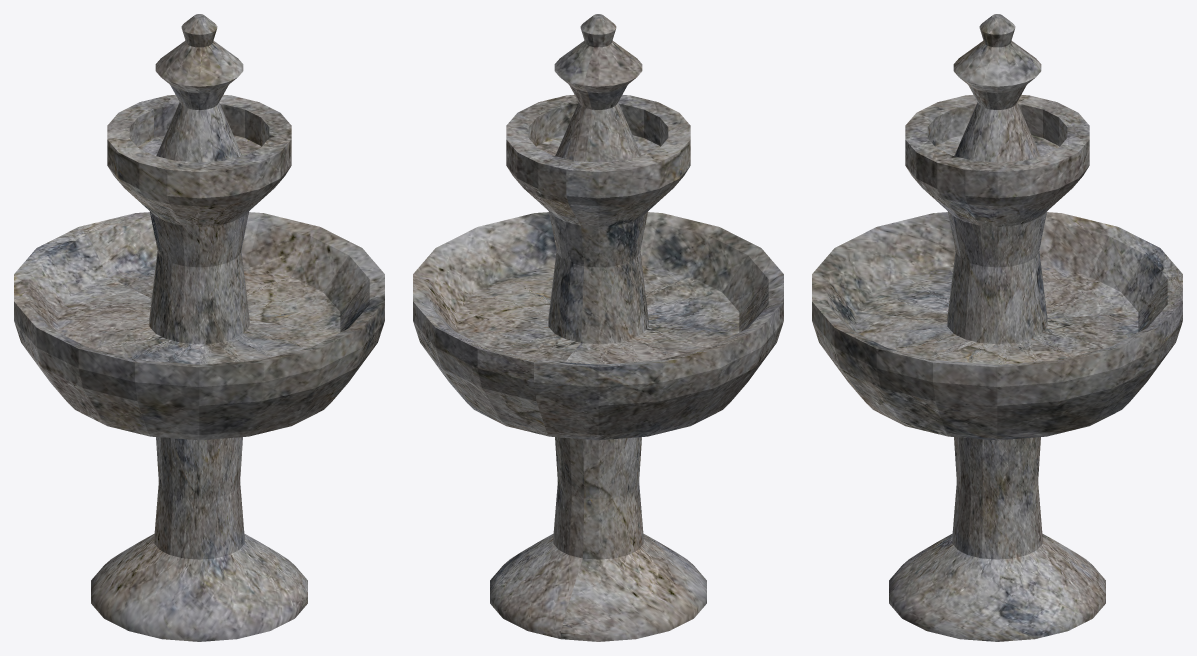
The model's file is fountain.fbx.
The picture shows the model from 3 angles, left to right: view 1: azimuth 30°, elevation 25°; view 2: azimuth 150°, elevation 25°; view 3: azimuth 270°, elevation 25°; orthographic projection.
Visible parts, largest first — view 1: Cilindro001; view 2: Cilindro001; view 3: Cilindro001.
Boxes of the visible parts, x1,y1,x2,y2 form: Cilindro001: (14,14,384,641); Cilindro001: (413,14,783,641); Cilindro001: (812,14,1182,641).
Size of the model in its own units: 39.91 by 67.74 by 39.3.
1 material, 1 textured.
